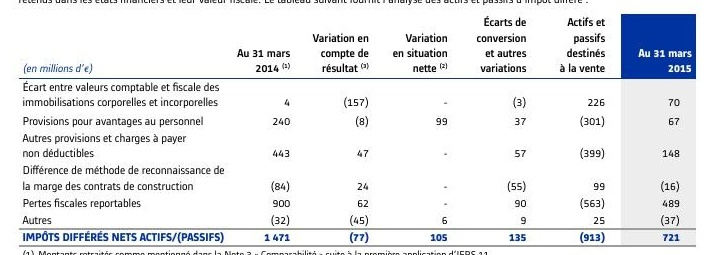table: (0, 0, 721, 255)
